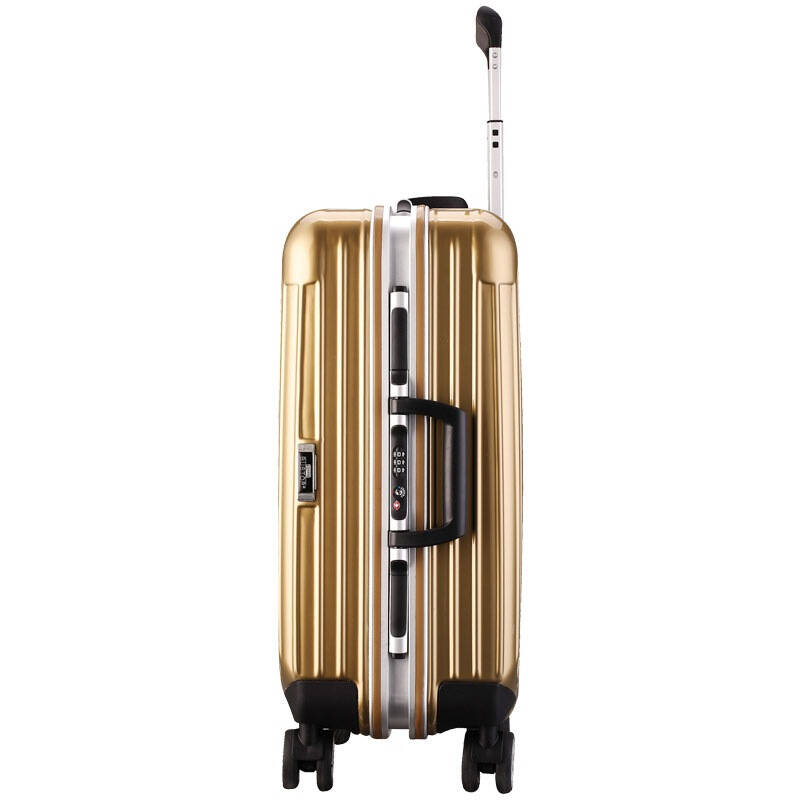suitcase: (277, 5, 524, 796)
